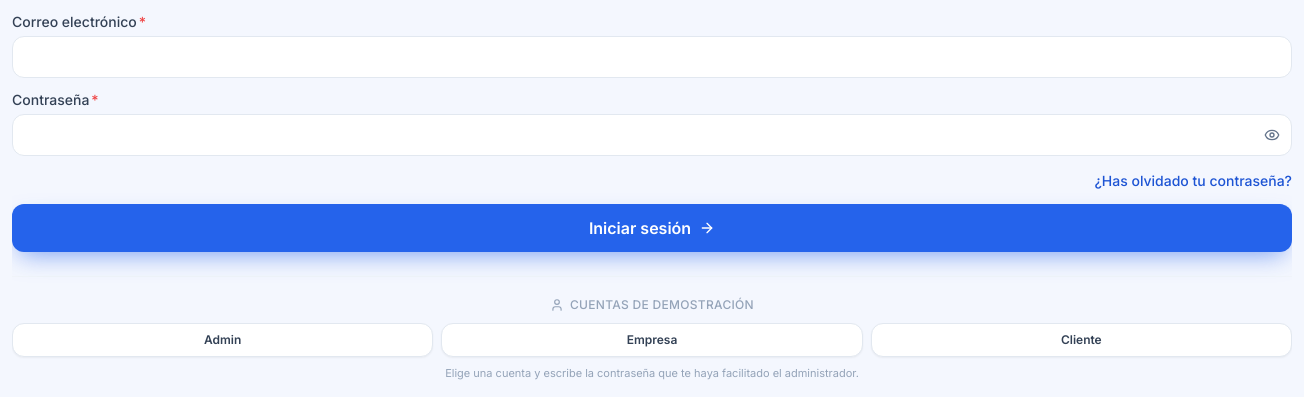
Scenario: <DemoAccess /> › "Usar otro email" vuelve al campo de correo normal
Click the button "Cliente" at (1081, 340), box left=871, top=323, right=1292, bottom=357
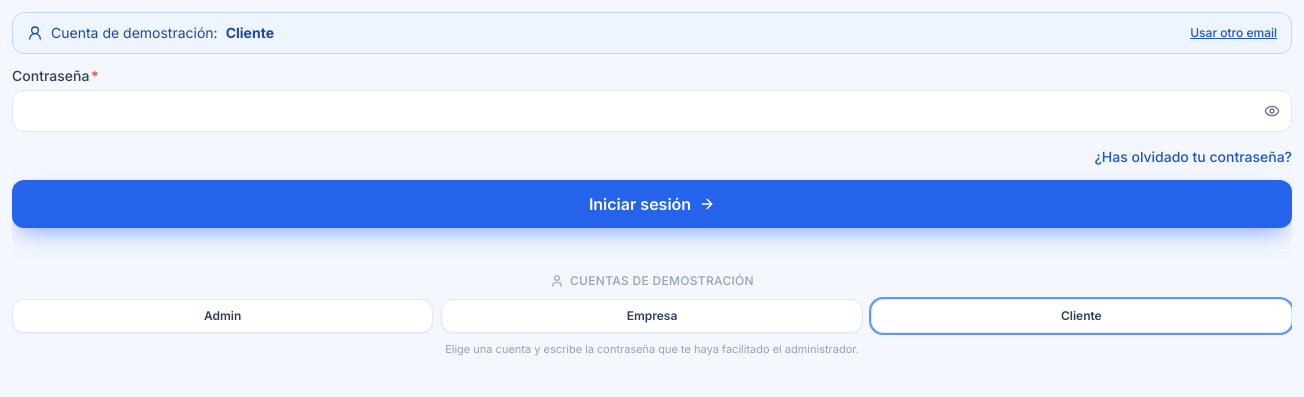
Click the button "Usar otro email" at (1234, 33), box left=1190, top=25, right=1277, bottom=41
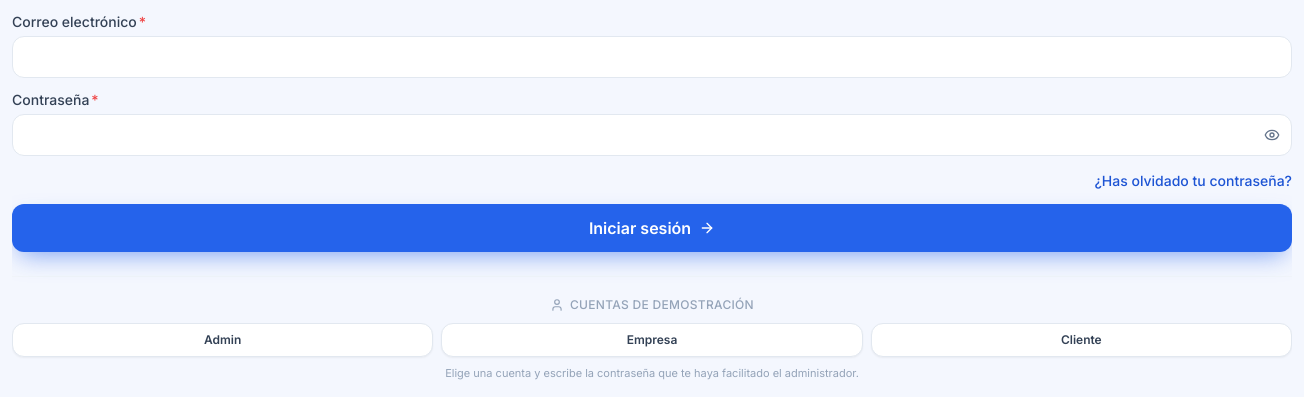
expect the field labelled "Correo electrónico*" is shown: met, box left=12, top=36, right=1292, bottom=78
